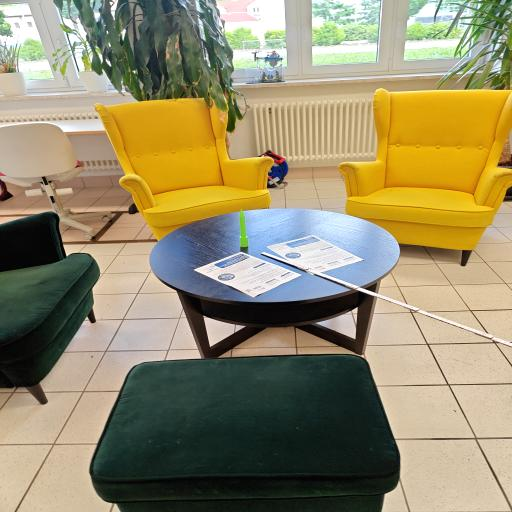Probe-Detection: (239, 209, 248, 247)
